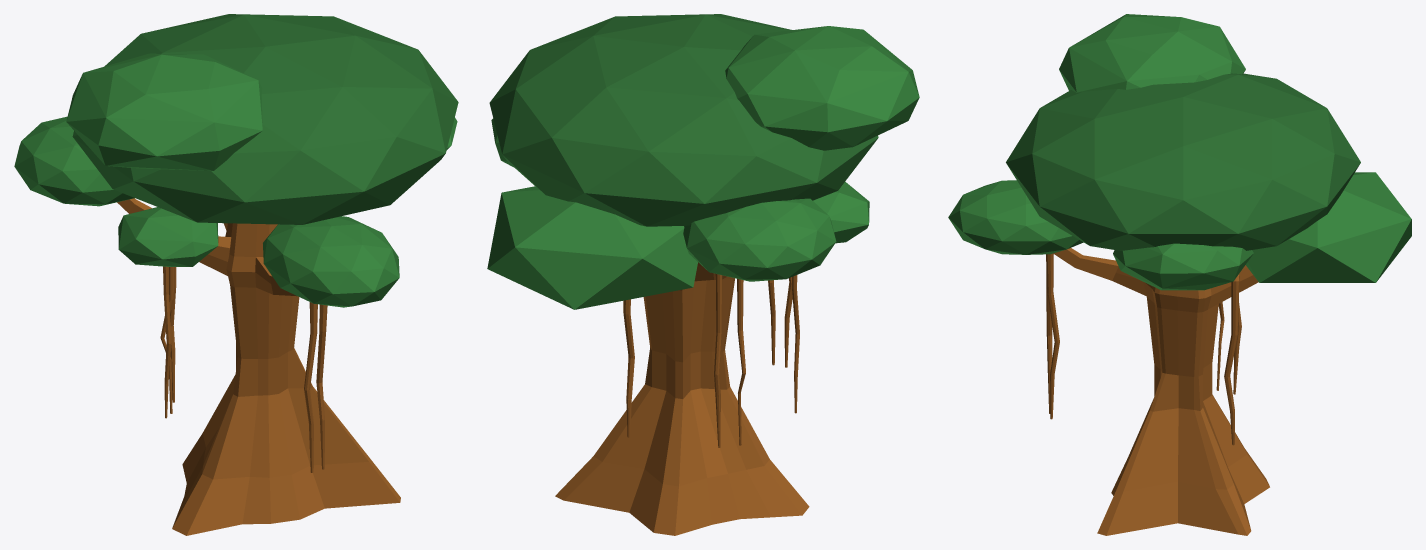
File: ENVI_LV2-3_Pohon_Raksasa_001.fbx
The picture shows the model from 3 angles, left to right: view 1: azimuth 30°, elevation 25°; view 2: azimuth 150°, elevation 25°; view 3: azimuth 270°, elevation 25°; orthographic projection. The views are drawn at different scales.
Parts seen in each view (by area): view 1: Pohon Raksasa.001; view 2: Pohon Raksasa.001; view 3: Pohon Raksasa.001.
Boxes of the visible parts, x1,y1,x2,y2 form: Pohon Raksasa.001: [14, 14, 458, 535]; Pohon Raksasa.001: [487, 14, 919, 535]; Pohon Raksasa.001: [948, 14, 1411, 535].
Size of the model in its own units: 1598 by 1880 by 1873.
